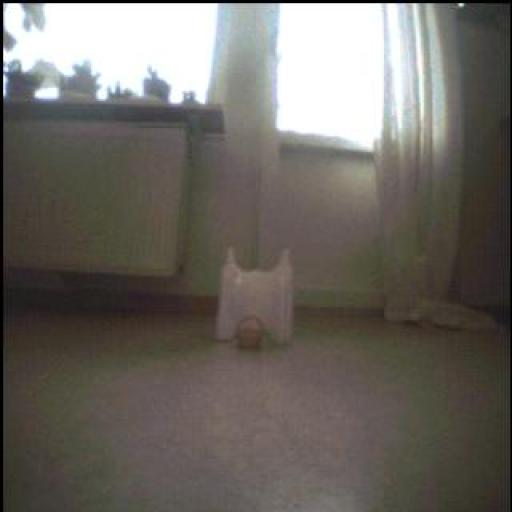Basket: (236, 316, 267, 350)
